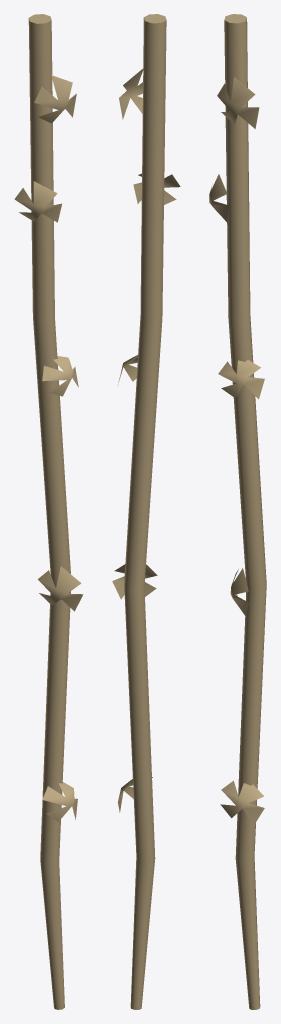
File: vine-02.fbx
3 renders of one model, left to right at view 1: azimuth 30°, elevation 25°; view 2: azimuth 210°, elevation 25°; view 3: azimuth 330°, elevation 25°, orthographic.
Visible parts, largest first — view 1: vine-02; view 2: vine-02; view 3: vine-02.
Boxes of the visible parts, x1,y1,x2,y2 form: vine-02: [14, 14, 83, 1009]; vine-02: [112, 14, 180, 1009]; vine-02: [209, 14, 266, 1009].
Bounding box in the file's own units: 23.57 × 384 × 14.59.
